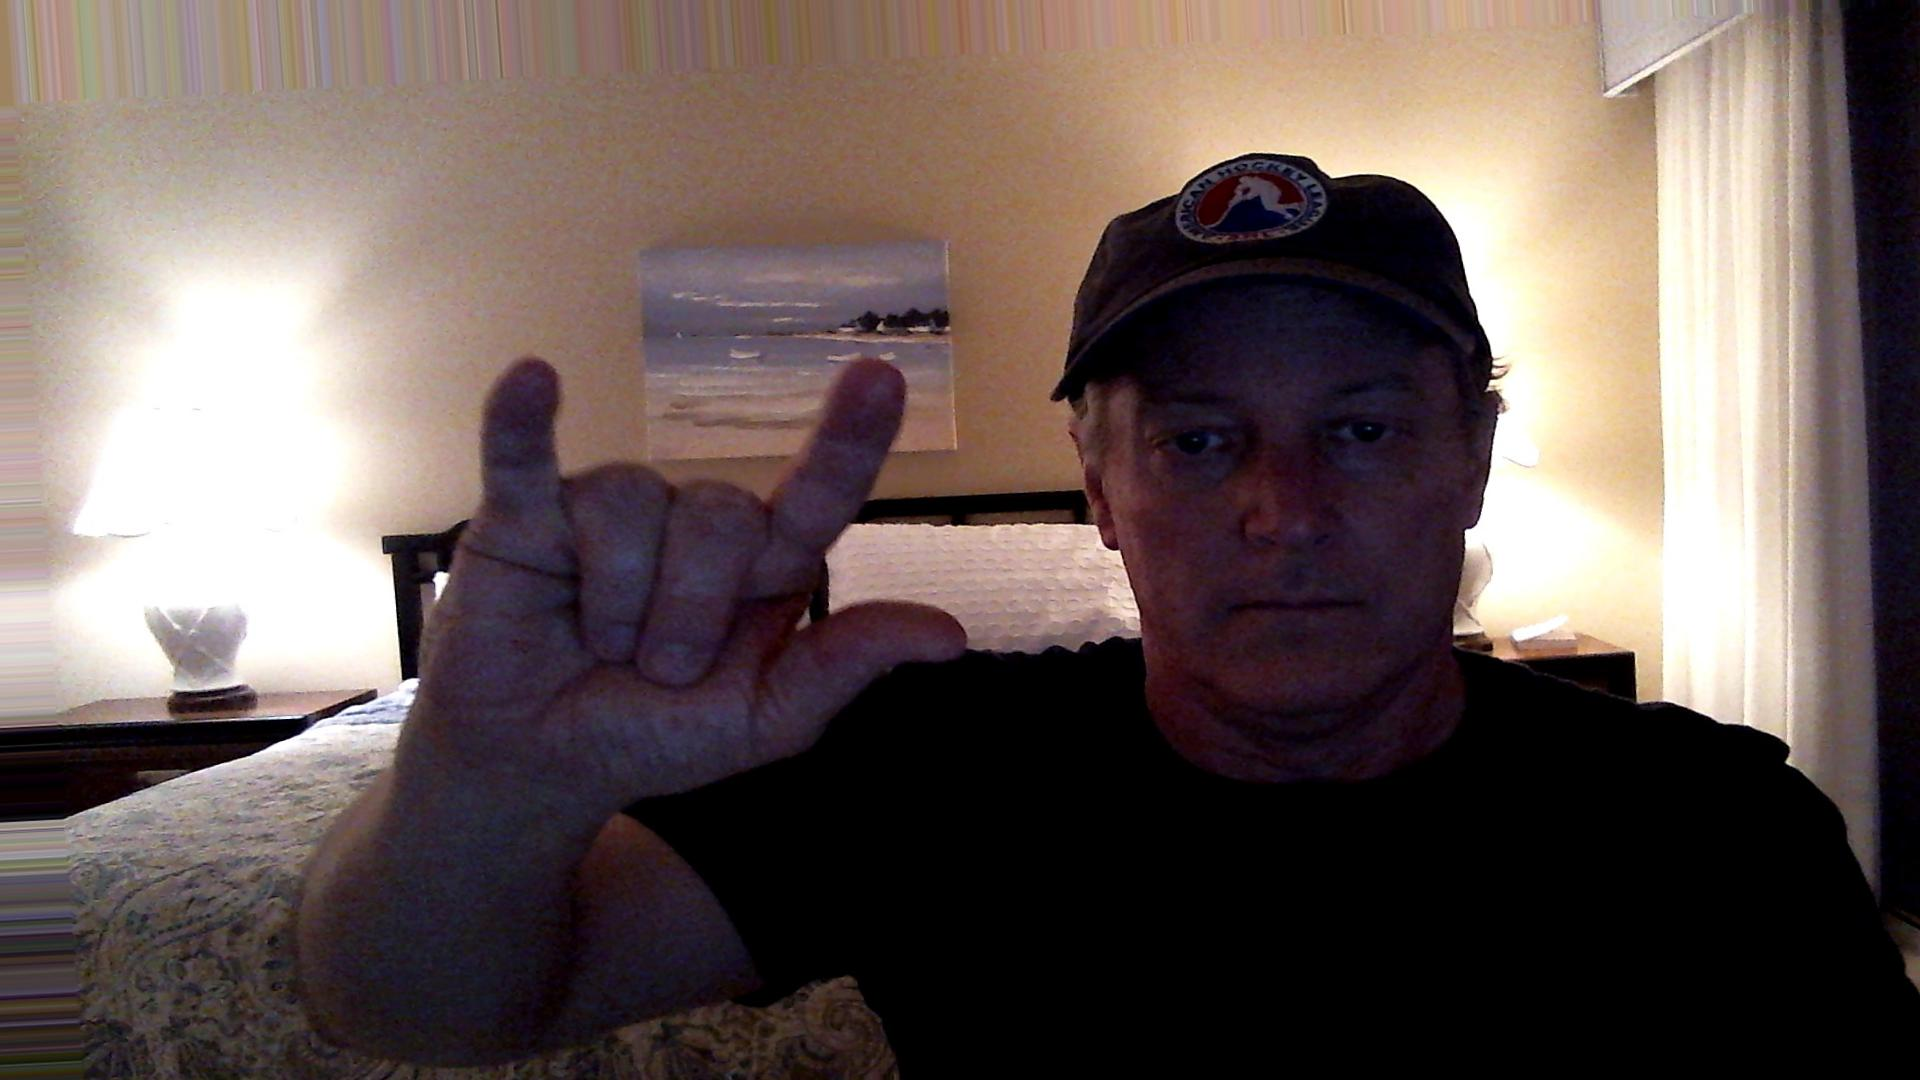I Love You: (411, 330, 1002, 810)
